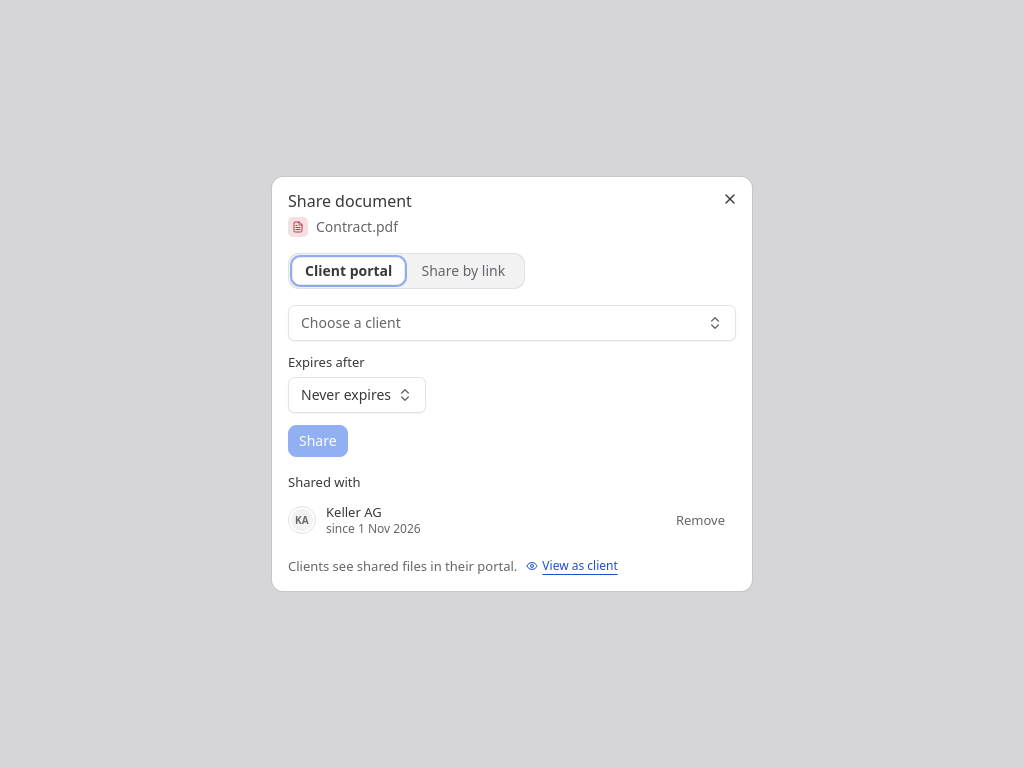
Scenario: ShareDialog › removes a share
Step 1. Click the button with aria-label "Remove Keller AG" → click(700, 520), box [665,506,736,534]
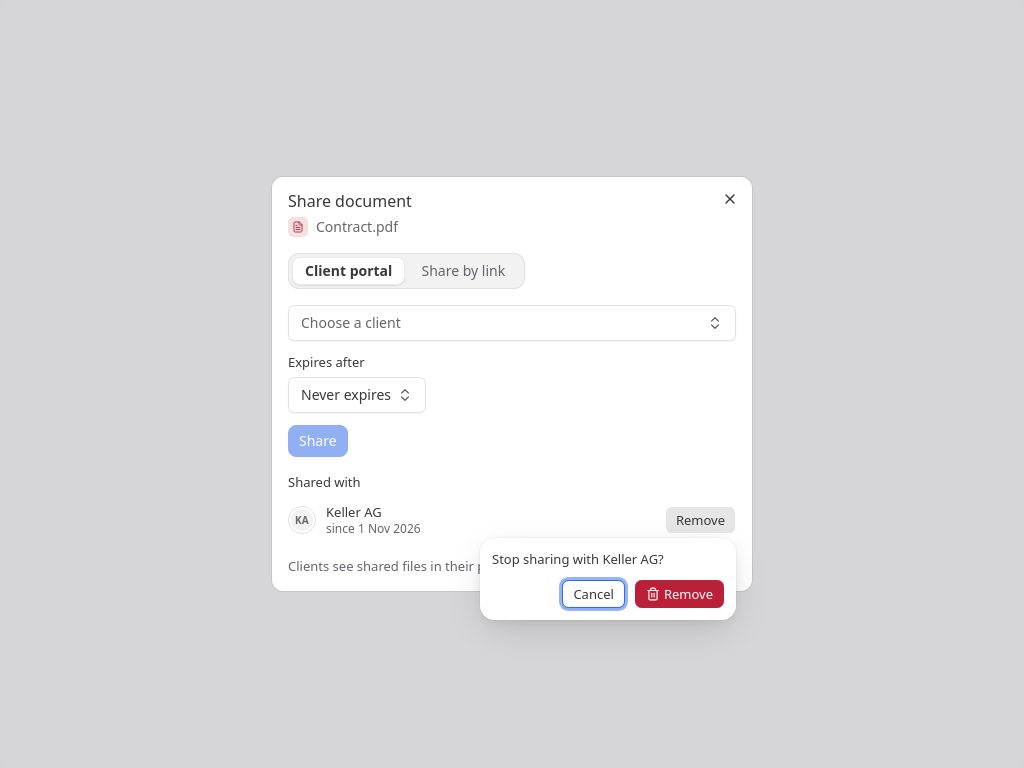
Step 2. Click the button "Remove" below "Stop sharing with Keller AG?" → click(679, 594), box [635,580,724,608]
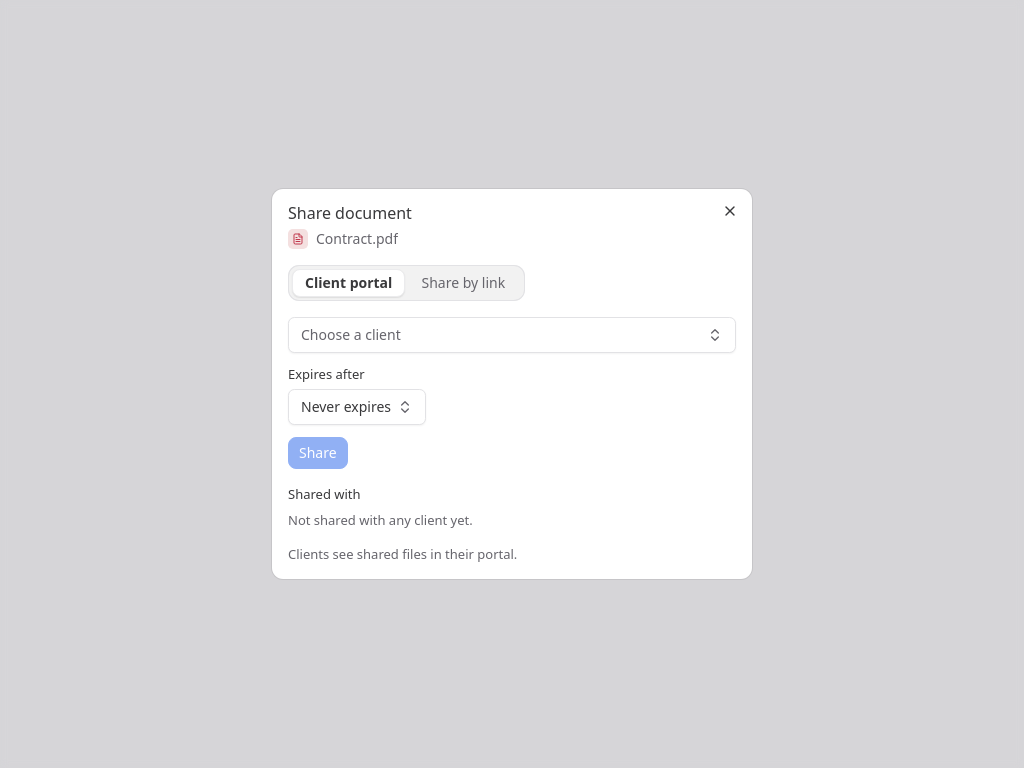
Expected: the text "Not shared with any client yet." is shown, [288,511,473,529]
